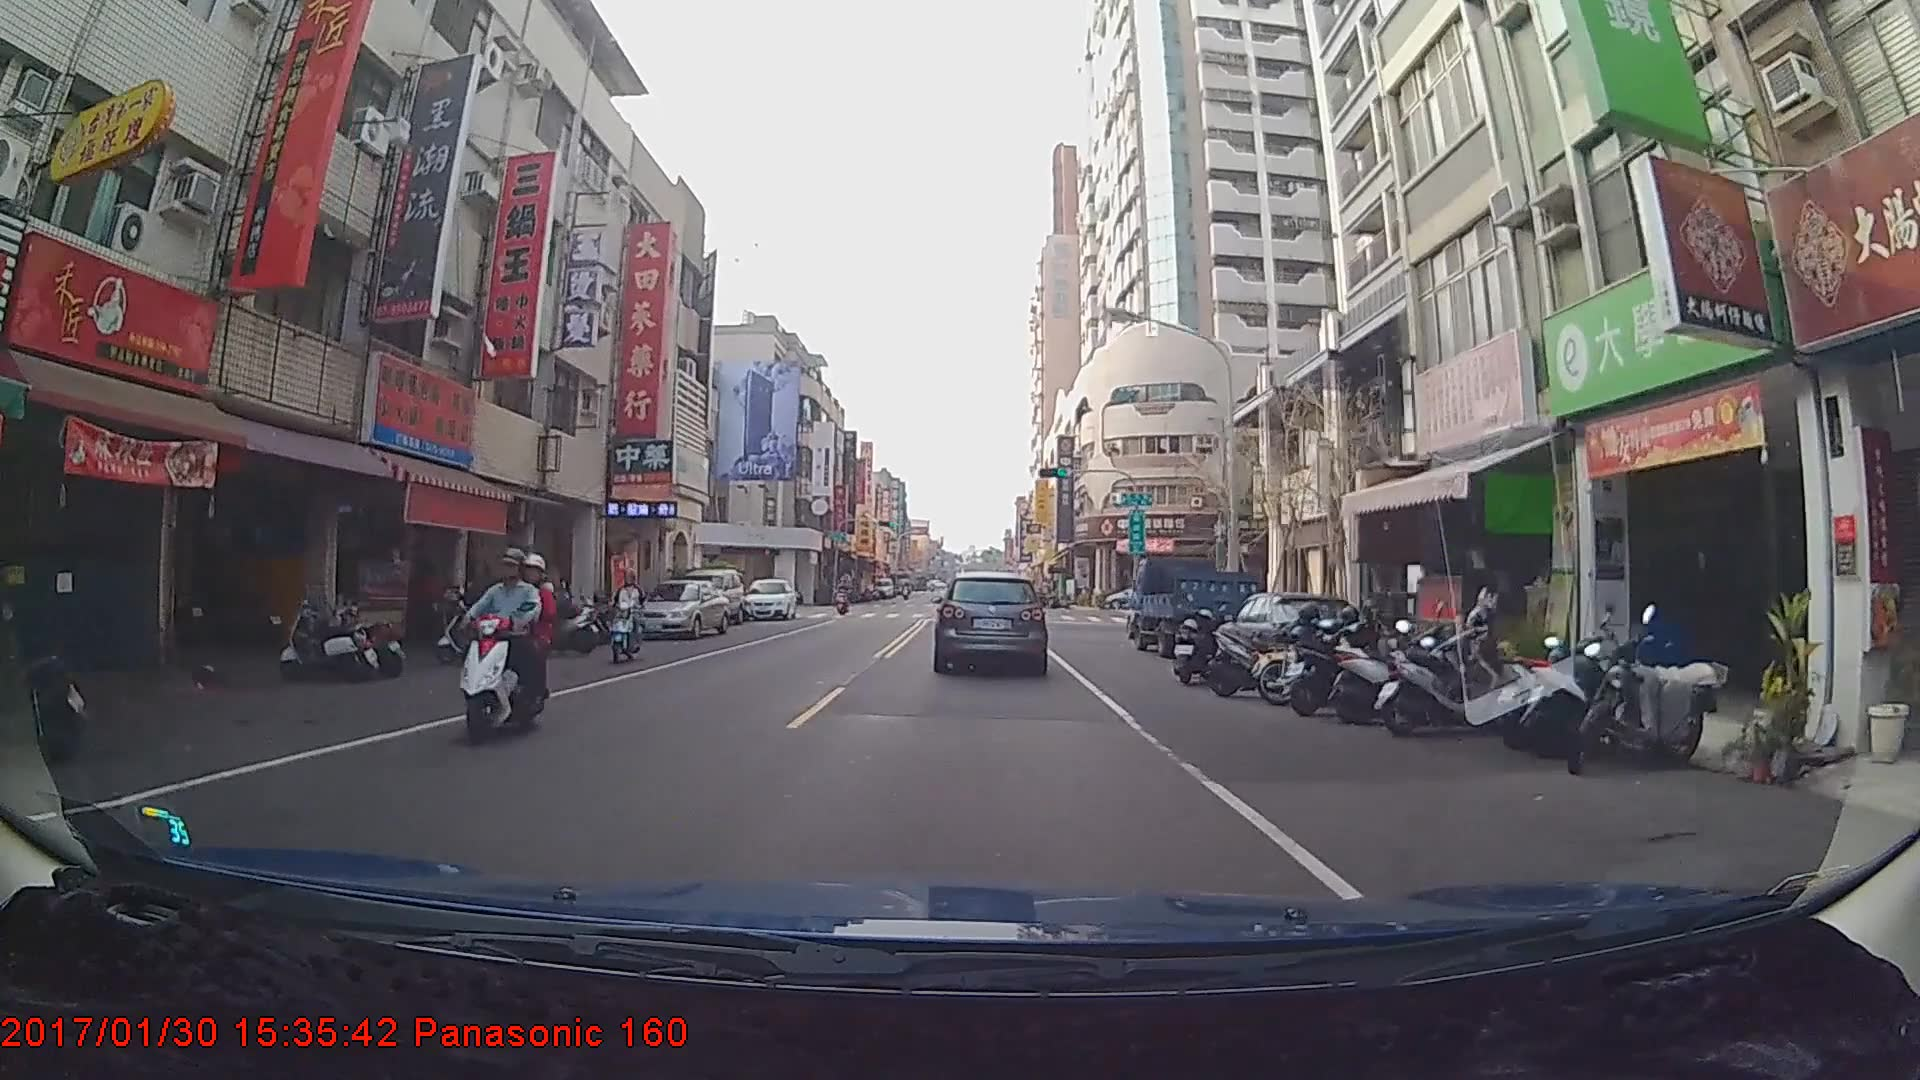rider: (452, 552, 553, 742), (612, 574, 649, 670), (834, 578, 854, 619)
vehicle: (1128, 553, 1262, 659), (935, 569, 1046, 674), (626, 577, 731, 640), (674, 565, 745, 627), (741, 576, 794, 621)
